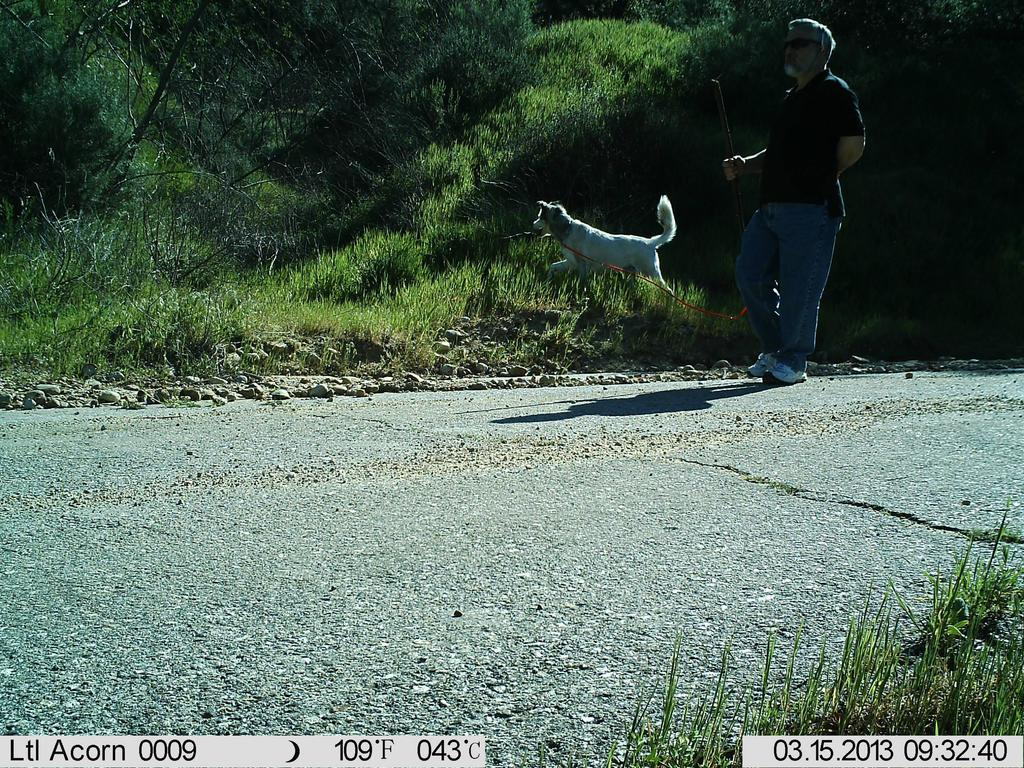dog: (523, 176, 694, 317)
